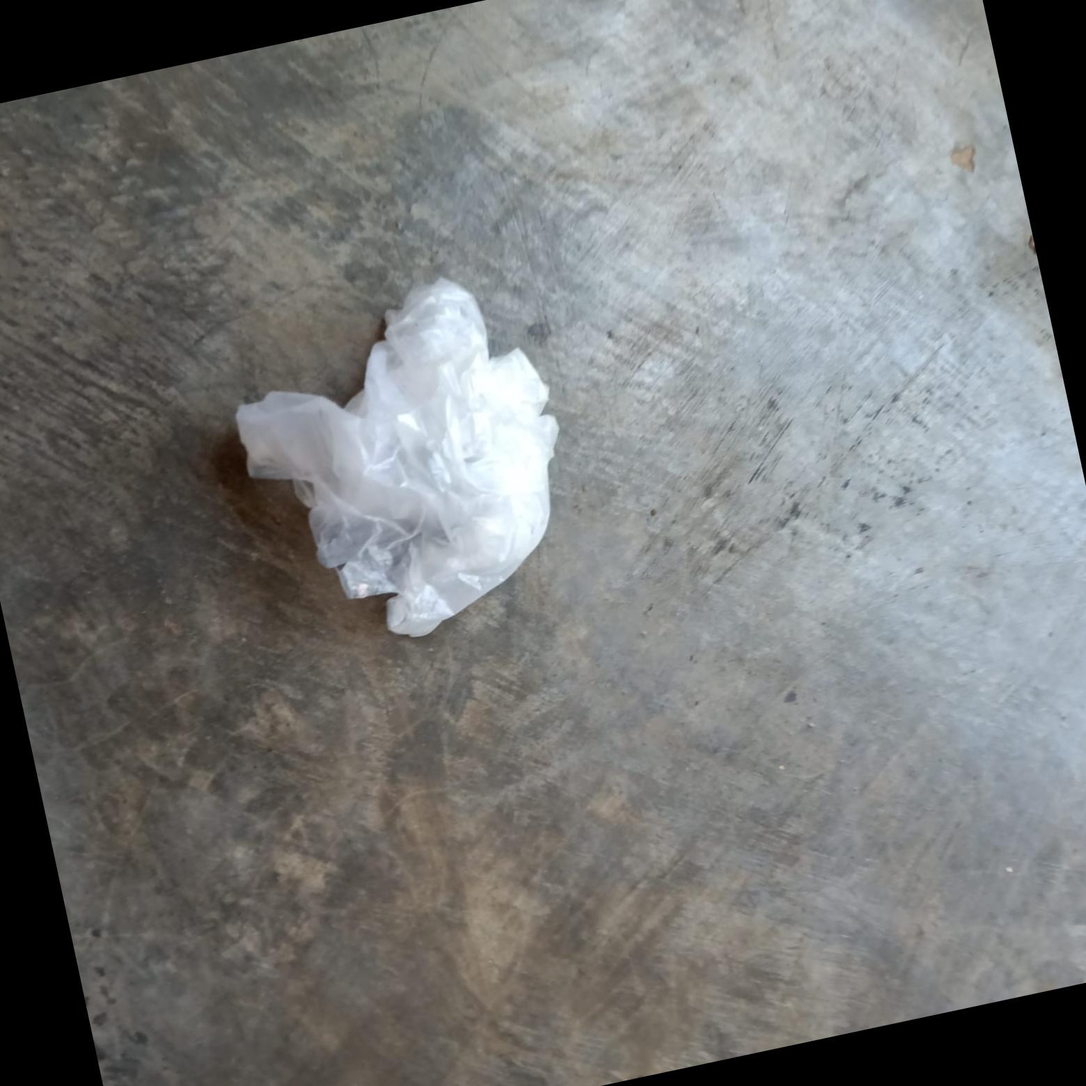Plastik: (214, 258, 596, 664)
